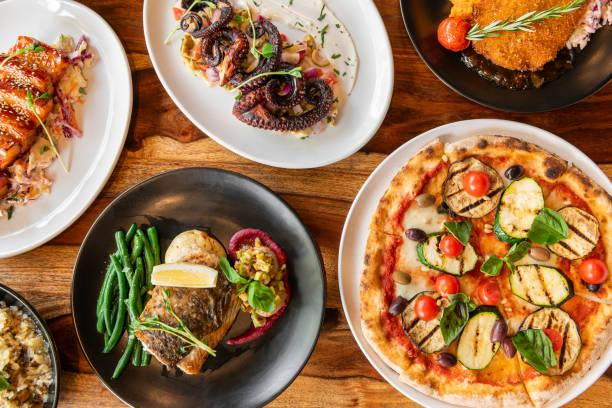Braised Crucian Carp: (340, 119, 607, 406), (71, 167, 323, 407), (144, 1, 385, 171), (2, 0, 132, 259)
